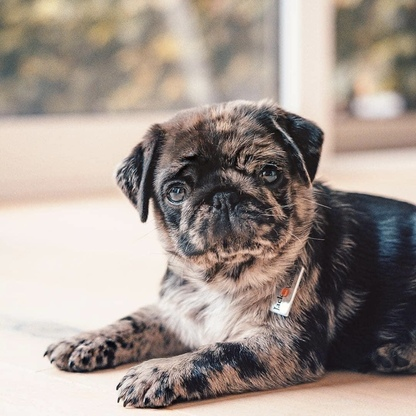Pug: (35, 94, 416, 413)
